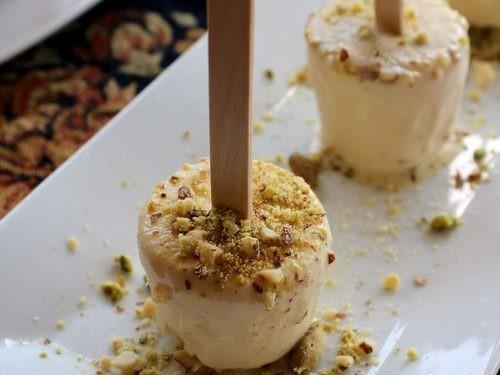Kulfi: (139, 150, 330, 368), (310, 0, 467, 176)
